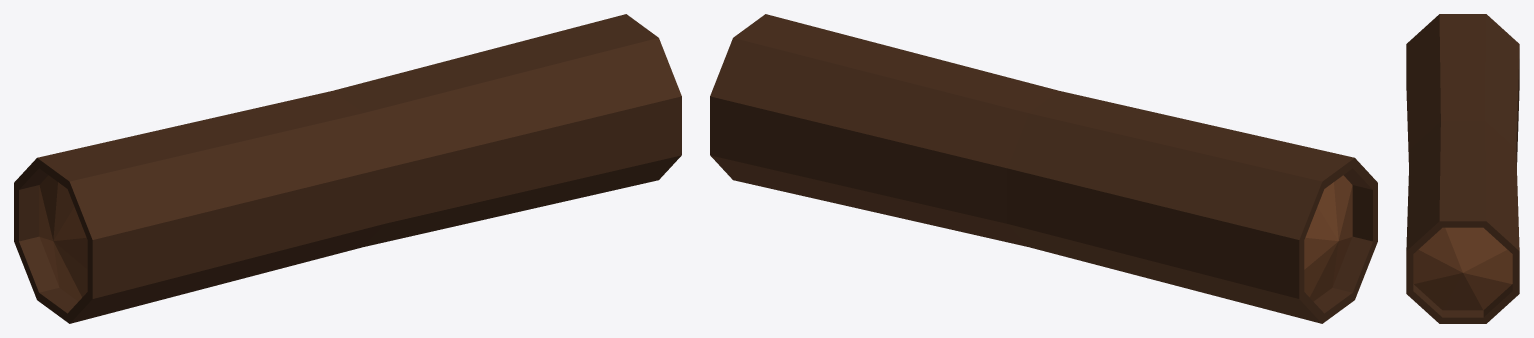
File: Log_1_Dark_Brown.fbx
The picture shows the model from 3 angles, left to right: view 1: azimuth 30°, elevation 25°; view 2: azimuth 150°, elevation 25°; view 3: azimuth 270°, elevation 25°; orthographic projection. The views are drawn at different scales.
Visible parts, largest first — view 1: Log_1_Dark_Brown; view 2: Log_1_Dark_Brown; view 3: Log_1_Dark_Brown.
Part boxes in pixels (box(x1,y1,x2,y2)): Log_1_Dark_Brown: box(14, 14, 681, 323); Log_1_Dark_Brown: box(710, 14, 1377, 323); Log_1_Dark_Brown: box(1406, 14, 1519, 323).
Bounding box in the file's own units: 200 × 46.18 × 46.18.
